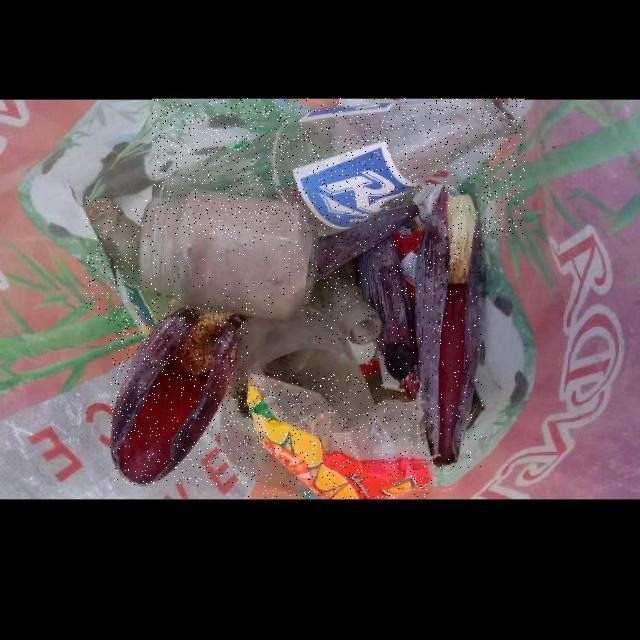biowaste: (110, 308, 249, 485), (415, 186, 483, 468), (359, 235, 420, 399), (315, 204, 420, 281)
glass: (153, 98, 525, 235), (141, 190, 320, 320), (86, 198, 157, 328), (307, 260, 381, 344)
wrapper: (247, 373, 433, 498)
